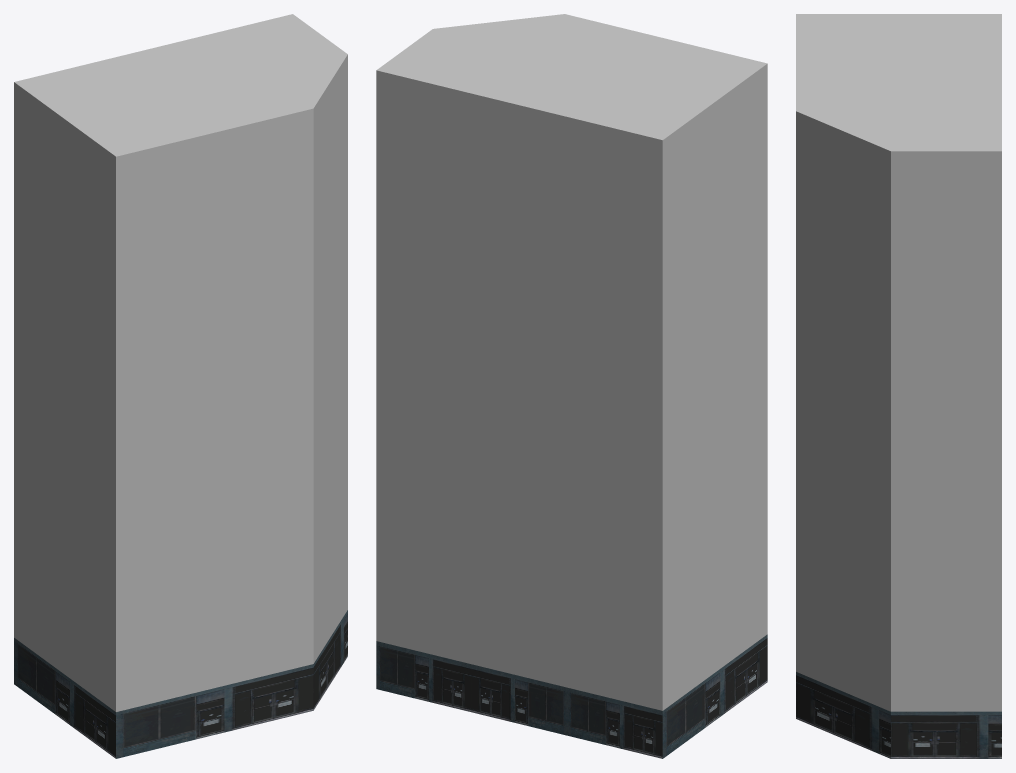
Rendered from NEW building 13.fbx.
3 views of the same model, side by side, from view 1: azimuth 30°, elevation 25°; view 2: azimuth 150°, elevation 25°; view 3: azimuth 270°, elevation 25° (orthographic). The views are drawn at different scales.
Parts seen in each view (by area): view 1: Object_6.006; view 2: Object_6.006; view 3: Object_6.006.
Part boxes in pixels (bbox=[...]): Object_6.006: bbox=[14, 14, 347, 758]; Object_6.006: bbox=[376, 14, 767, 758]; Object_6.006: bbox=[796, 14, 1001, 758].
Size of the model in its own units: 310 by 639 by 196.
